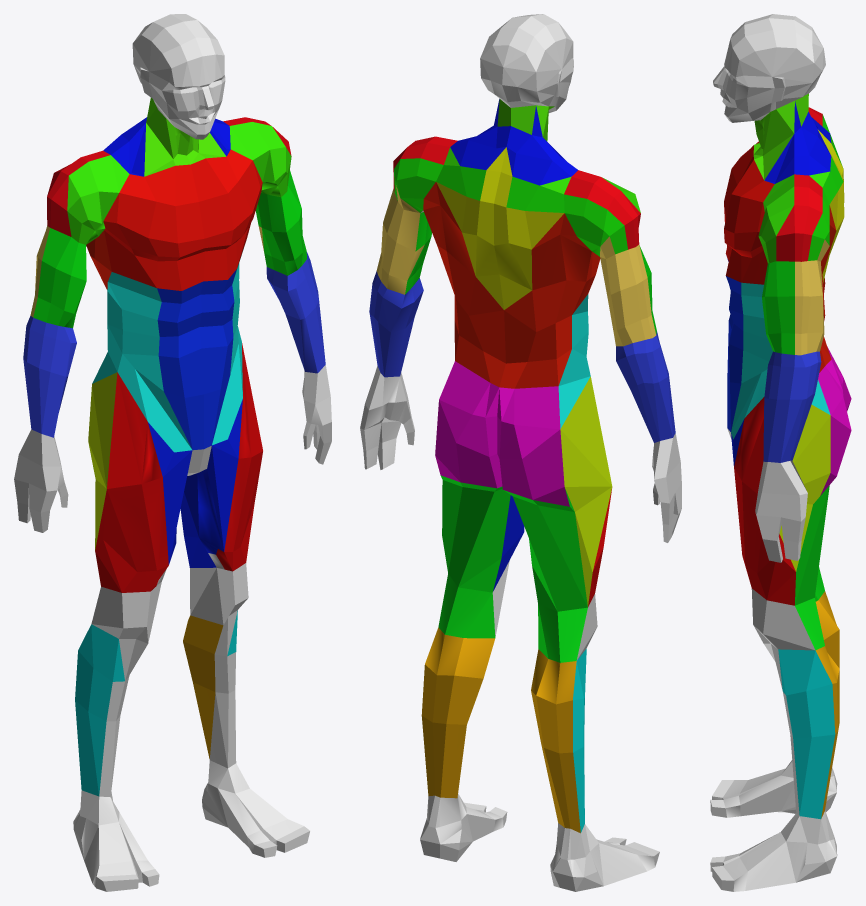
File: model_materials2.glb
3 views of the same model, side by side, from view 1: azimuth 30°, elevation 25°; view 2: azimuth 150°, elevation 25°; view 3: azimuth 270°, elevation 25° (orthographic).
Parts seen in each view (by area): view 1: Body; view 2: Body; view 3: Body.
Boxes of the visible parts, box(x1,y1,x2,y2) form: Body: box(14, 14, 331, 891); Body: box(360, 14, 681, 891); Body: box(710, 14, 851, 891).
Bounding box in the file's own units: 0.7745 × 2.01 × 0.3116.
